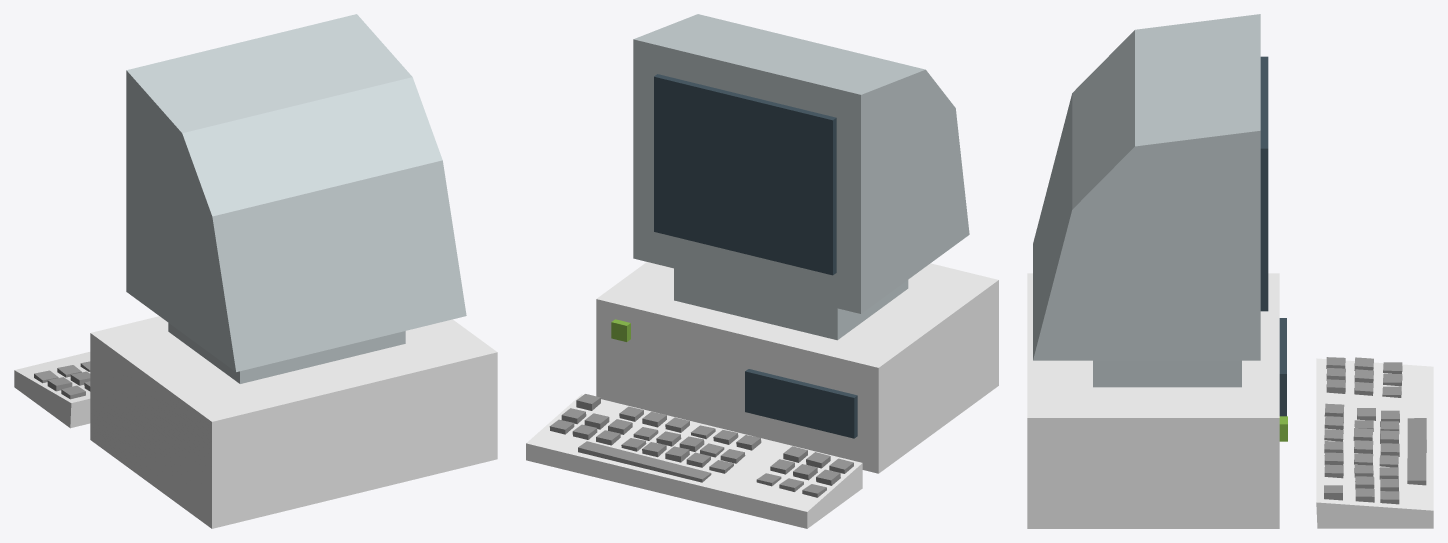
Rendered from device-computer.glb.
3 renders of one model, left to right at view 1: azimuth 30°, elevation 25°; view 2: azimuth 150°, elevation 25°; view 3: azimuth 270°, elevation 25°, orthographic. The views are drawn at different scales.
Visible parts, largest first — view 1: group861517382, group1631870305, group2115554823, group1639888595; view 2: group861517382, group1631870305, group1262710399, group1639888595, group2115554823, group2131501692, group1139380957, group806411317, group396267525, group1625508101; view 3: group861517382, group1631870305, group1639888595, group2115554823, group1262710399, group1139380957, group2131501692, group396267525, group806411317, group1625508101.
Part boxes in pixels (<box>): group861517382: <box>126,14,466,372</box>; group1631870305: <box>90,316,497,528</box>; group2115554823: <box>168,323,405,383</box>; group1639888595: <box>14,352,90,428</box>; group861517382: <box>633,14,969,313</box>; group1631870305: <box>596,262,998,473</box>; group1262710399: <box>654,74,836,275</box>; group1639888595: <box>526,394,862,528</box>; group2115554823: <box>674,268,908,340</box>; group2131501692: <box>745,369,857,438</box>; group1139380957: <box>578,441,711,482</box>; group806411317: <box>783,446,853,473</box>; group396267525: <box>770,459,840,485</box>; group1625508101: <box>756,473,826,497</box>; group861517382: <box>1033,14,1260,360</box>; group1631870305: <box>1027,273,1279,528</box>; group1639888595: <box>1316,358,1433,528</box>; group2115554823: <box>1093,360,1241,387</box>; group1262710399: <box>1260,56,1268,311</box>; group1139380957: <box>1407,418,1426,485</box>; group2131501692: <box>1279,318,1286,416</box>; group396267525: <box>1354,357,1373,395</box>; group806411317: <box>1326,357,1345,393</box>; group1625508101: <box>1382,362,1402,397</box>.
Size of the model in its own units: 0.7145 by 0.8809 by 0.8421.
